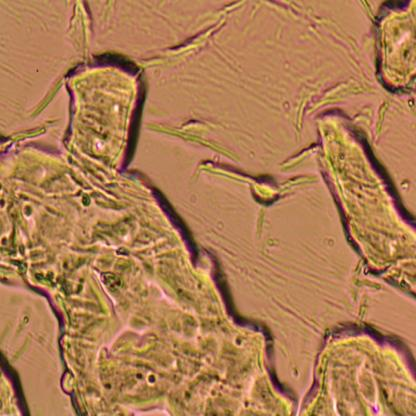Normal: (2, 34, 235, 416), (65, 328, 416, 416), (319, 13, 416, 291)
